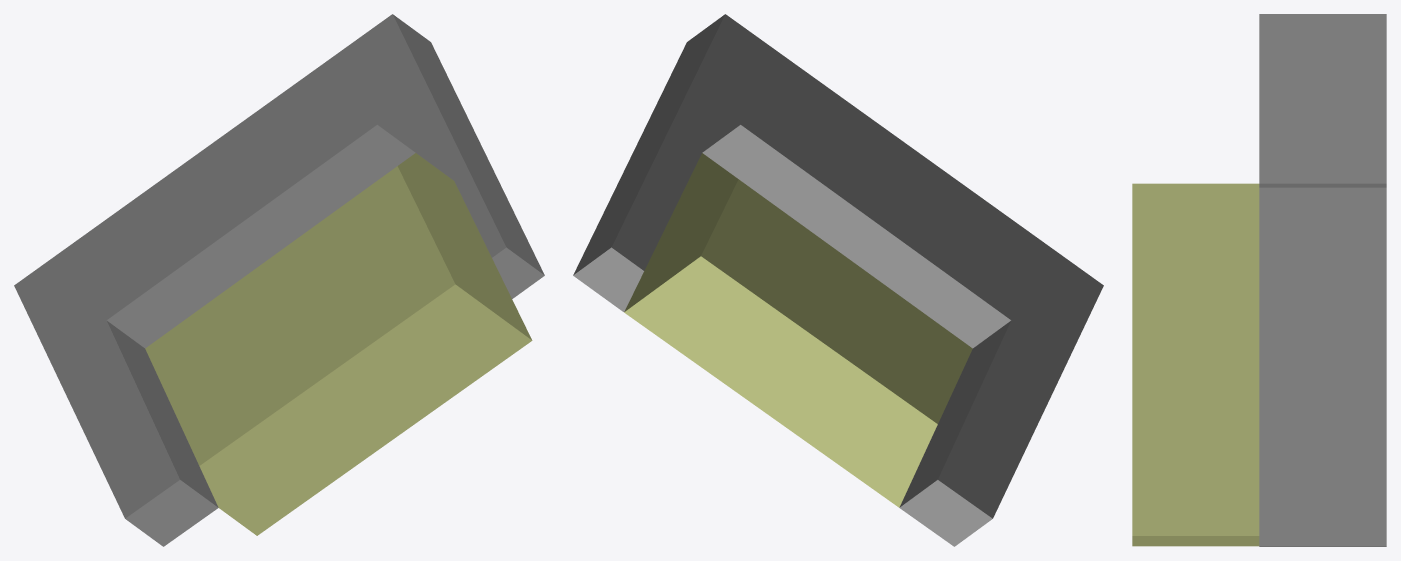
The picture shows the model from 3 angles, left to right: view 1: azimuth 30°, elevation 25°; view 2: azimuth 150°, elevation 25°; view 3: azimuth 270°, elevation 25°; orthographic projection. The views are drawn at different scales.
Parts seen in each view (by area): view 1: 0_1_1_3_3_1_2_2_3; view 2: 0_1_1_3_3_1_2_2_3; view 3: 0_1_1_3_3_1_2_2_3.
Part boxes in pixels (box(x1,y1,x2,y2)): 0_1_1_3_3_1_2_2_3: box(14, 14, 544, 546); 0_1_1_3_3_1_2_2_3: box(573, 14, 1103, 546); 0_1_1_3_3_1_2_2_3: box(1132, 14, 1386, 546).
Size of the model in its own units: 22.16 by 18.9 by 6.
